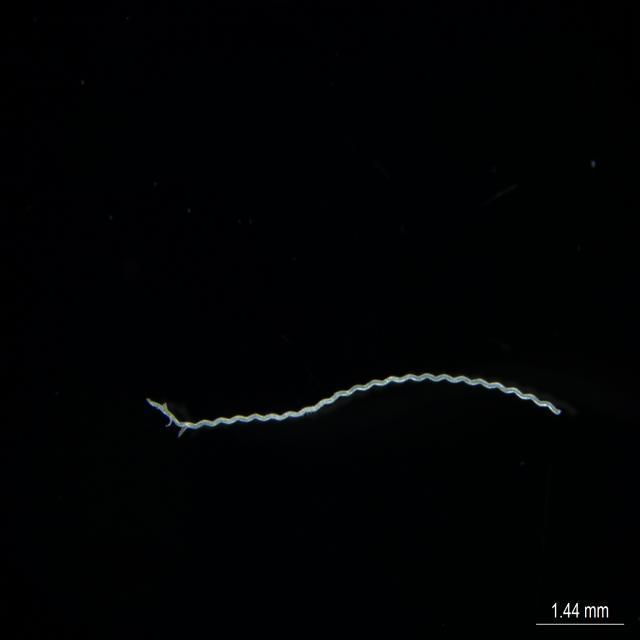Fibre: (144, 368, 564, 440)
